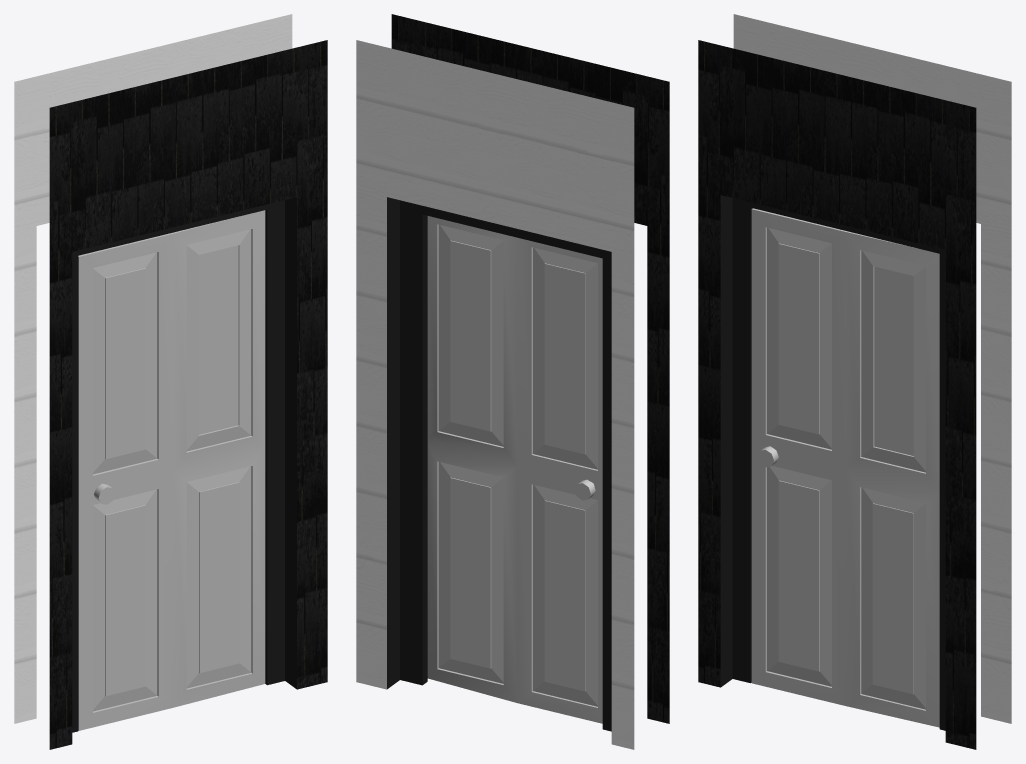
The model's file is Door_Wall_1.5m.fbx.
3 views of the same model, side by side, from view 1: azimuth 30°, elevation 25°; view 2: azimuth 150°, elevation 25°; view 3: azimuth 330°, elevation 25° (orthographic).
Parts seen in each view (by area): view 1: Door_Wall_1.5m, Door.017; view 2: Door_Wall_1.5m, Door.017; view 3: Door_Wall_1.5m, Door.017.
Boxes of the visible parts, x1,y1,x2,y2 form: Door_Wall_1.5m: (14, 14, 327, 749); Door.017: (78, 210, 265, 730); Door_Wall_1.5m: (356, 14, 669, 749); Door.017: (427, 216, 602, 723); Door_Wall_1.5m: (698, 14, 1011, 749); Door.017: (751, 208, 939, 727).
Size of the model in its own units: 136 by 300 by 30.
